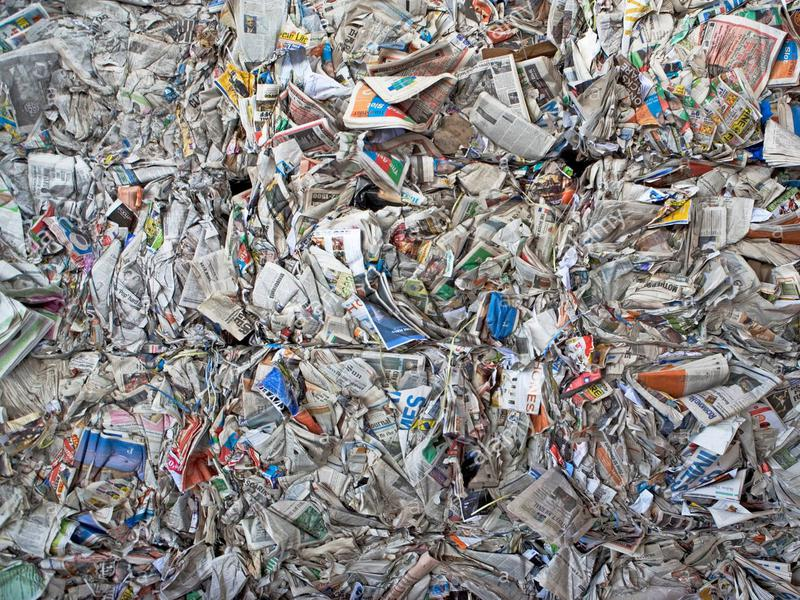paper: (164, 434, 498, 599), (4, 4, 240, 202), (572, 161, 797, 347), (89, 211, 254, 347), (242, 354, 393, 465), (639, 353, 785, 434), (448, 62, 559, 163), (345, 63, 459, 142), (501, 468, 606, 547), (200, 1, 311, 73), (697, 10, 786, 99), (343, 269, 437, 349), (62, 424, 143, 508), (23, 146, 102, 221)
